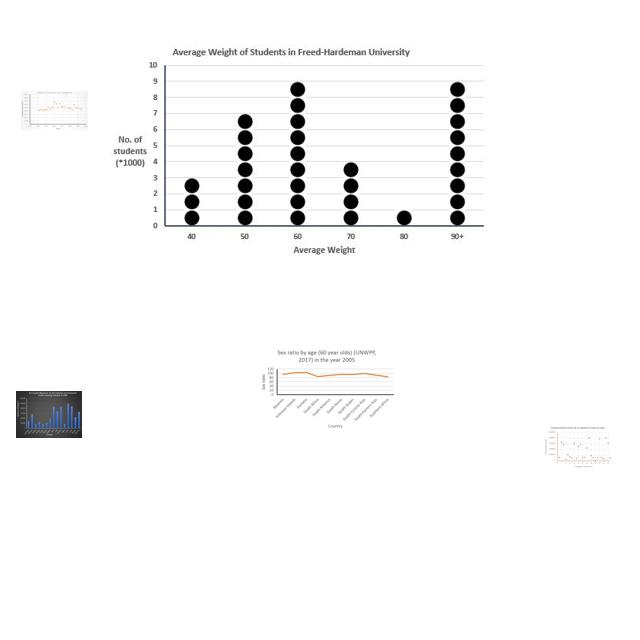Graph: (104, 39, 490, 263), (257, 346, 397, 431), (16, 391, 82, 438), (544, 426, 612, 469), (21, 91, 88, 130)
